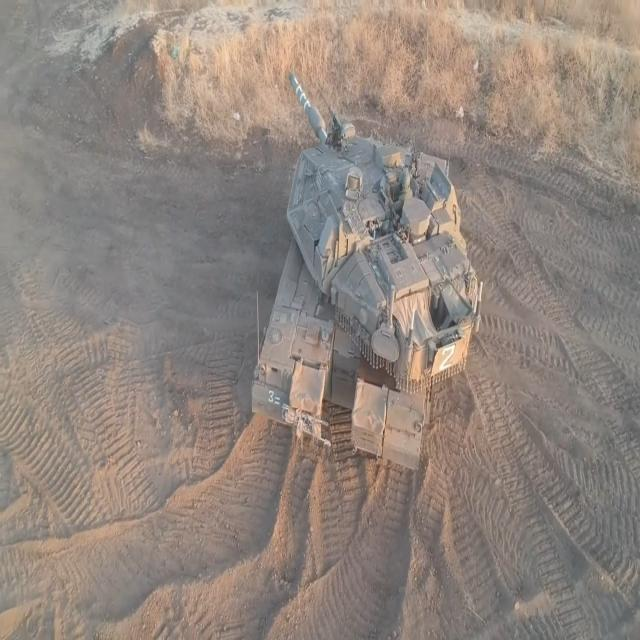tank: (248, 52, 480, 514)
